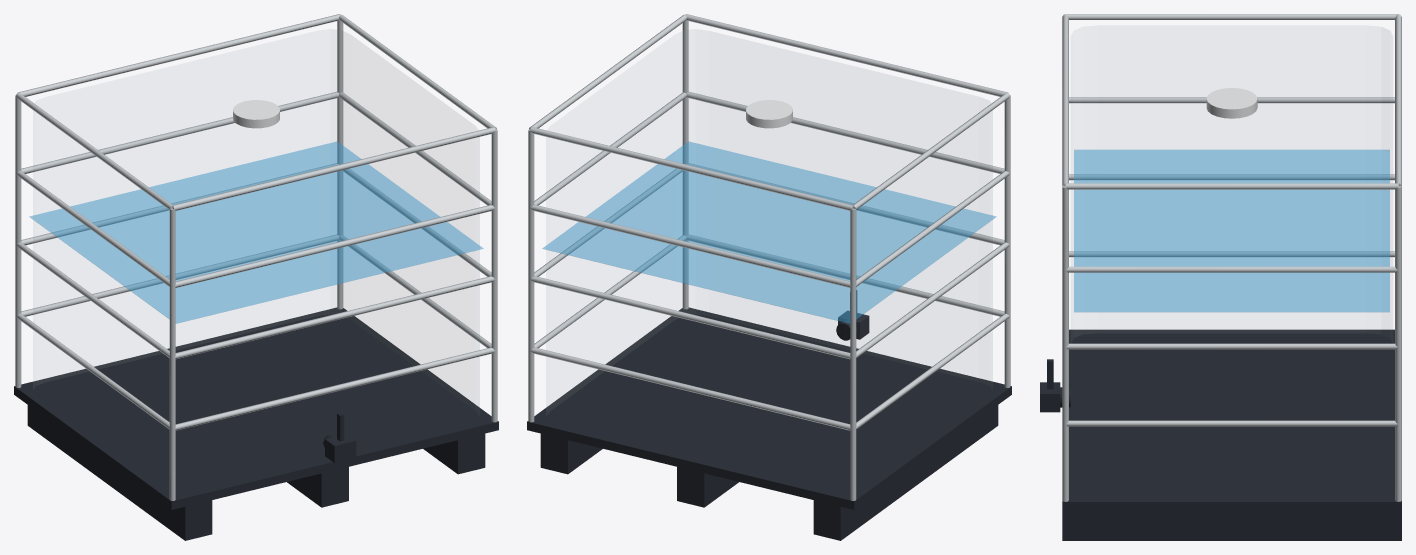
File: reservoir-ibc-1000l.glb
3 renders of one model, left to right at view 1: azimuth 30°, elevation 25°; view 2: azimuth 150°, elevation 25°; view 3: azimuth 270°, elevation 25°, orthographic. The views are drawn at different scales.
Visible parts, largest first — view 1: ibc_pallet, ibc_water, ibc_cage, ibc_cap, ibc_valve; view 2: ibc_pallet, ibc_water, ibc_cage, ibc_cap, ibc_valve; view 3: ibc_pallet, ibc_water, ibc_cage, ibc_cap, ibc_valve.
Part boxes in pixels (left/top/right/bottom): ibc_pallet: left=14, top=307, right=498, bottom=540; ibc_water: left=29, top=141, right=483, bottom=323; ibc_cage: left=15, top=14, right=497, bottom=500; ibc_cap: left=233, top=100, right=279, bottom=128; ibc_valve: left=323, top=433, right=356, bottom=462; ibc_pallet: left=527, top=307, right=1011, bottom=540; ibc_water: left=542, top=141, right=996, bottom=323; ibc_cage: left=528, top=14, right=1010, bottom=500; ibc_cap: left=746, top=100, right=792, bottom=128; ibc_valve: left=836, top=311, right=869, bottom=340; ibc_pallet: left=1062, top=329, right=1401, bottom=540; ibc_water: left=1074, top=149, right=1389, bottom=312; ibc_cage: left=1062, top=14, right=1401, bottom=501; ibc_cap: left=1206, top=88, right=1257, bottom=118; ibc_valve: left=1040, top=382, right=1070, bottom=412.
Size of the model in its own units: 1.2 by 1.18 by 1.06.
